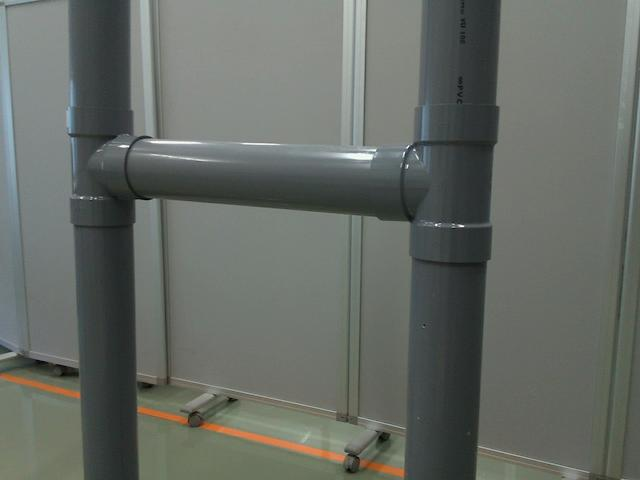junction: (367, 103, 499, 264), (58, 106, 156, 230)
